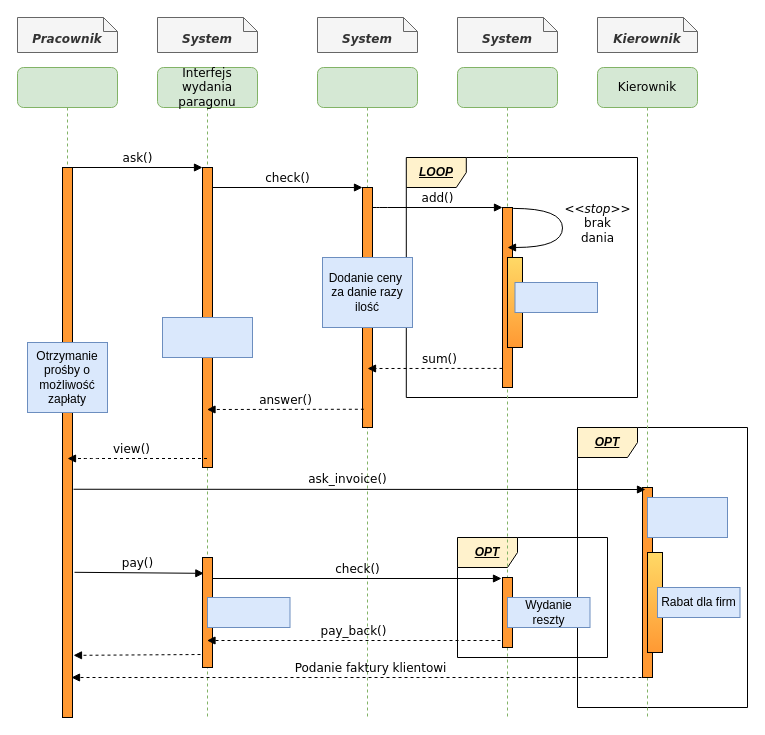
The diagram is 765 pixels wide and 735 high, and some of its shapes have lost their labels. The box of each missing label's shape, as (x1, y1, x2, y2) in pixels:
Drukowanie faktury: (646, 496, 728, 538)
Kelner: (16, 66, 118, 718)
Księgowość: (456, 66, 558, 718)
Moduł podliczający: (316, 66, 418, 718)
Podsumowanie klienta: (162, 316, 252, 358)
Przyjęcie zapłaty: (206, 596, 290, 628)
Uwzględnienie rabatu: (514, 282, 598, 312)
